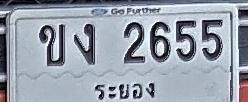2: (123, 21, 144, 63)
5: (202, 19, 222, 60), (176, 19, 195, 61)
6: (150, 21, 170, 62)
A02: (39, 24, 65, 66)
A07: (73, 23, 94, 64)
RYG: (90, 77, 156, 102)
